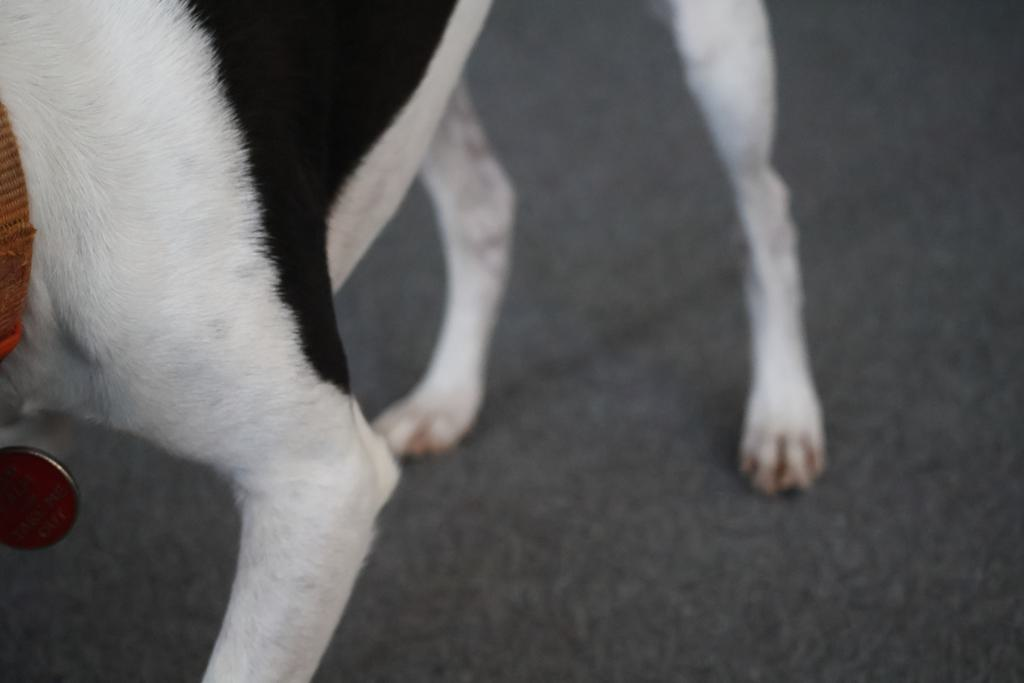Dog: (0, 0, 830, 683)
